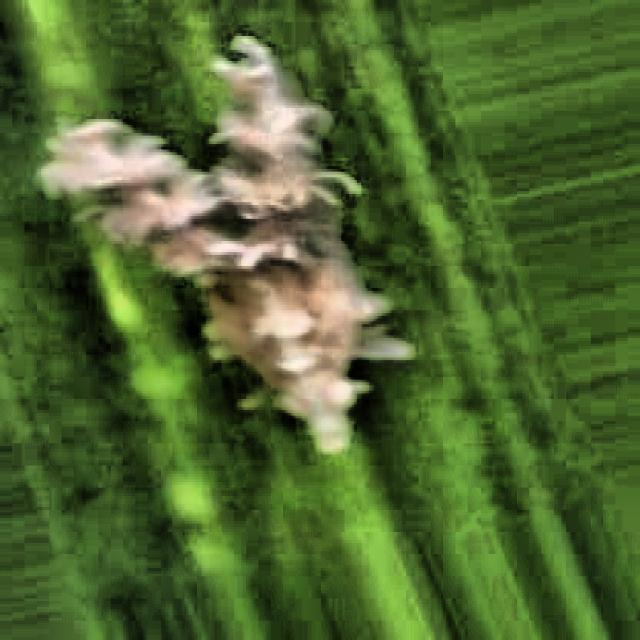Pyrilla-perpusilla: (25, 0, 413, 640)
